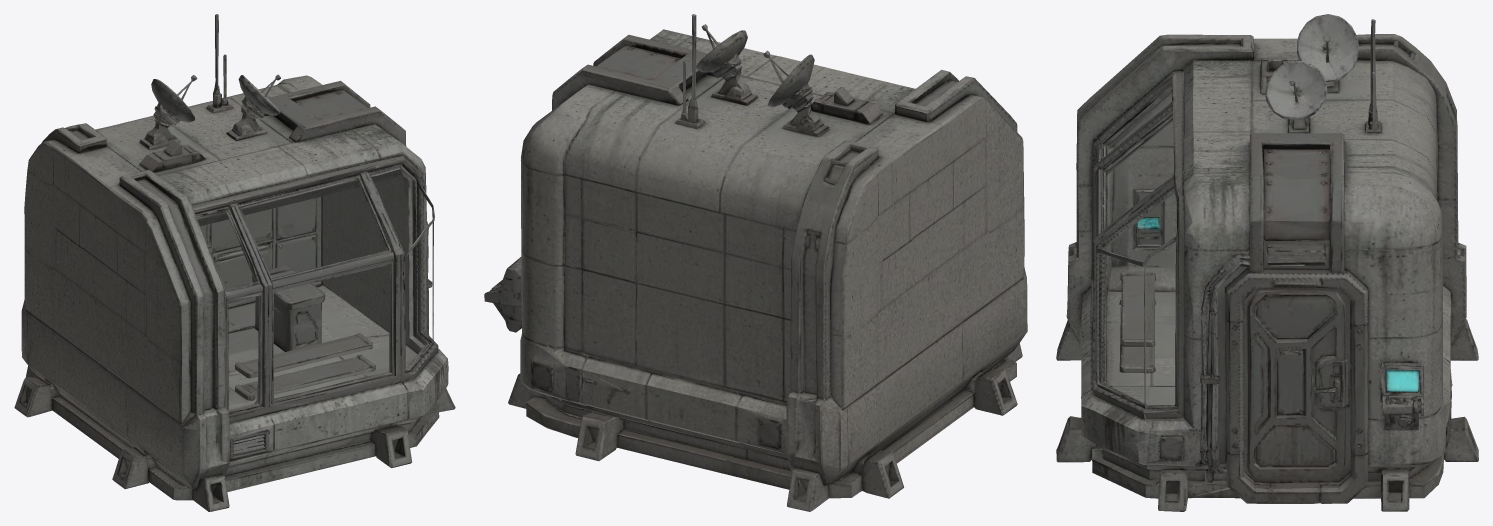
File: sink.sales_point.glb
3 renders of one model, left to right at view 1: azimuth 30°, elevation 25°; view 2: azimuth 150°, elevation 25°; view 3: azimuth 270°, elevation 25°, orthographic. The views are drawn at different scales.
Visible parts, largest first — view 1: body; view 2: body; view 3: body.
Boxes of the visible parts, left/top/right/bottom form: body: left=14, top=14, right=455, bottom=511; body: left=484, top=14, right=1027, bottom=511; body: left=1056, top=14, right=1478, bottom=511.
Bounding box in the file's own units: 2.4 × 2.4 × 2.23.
Materials: 1 (1 with a texture image).
